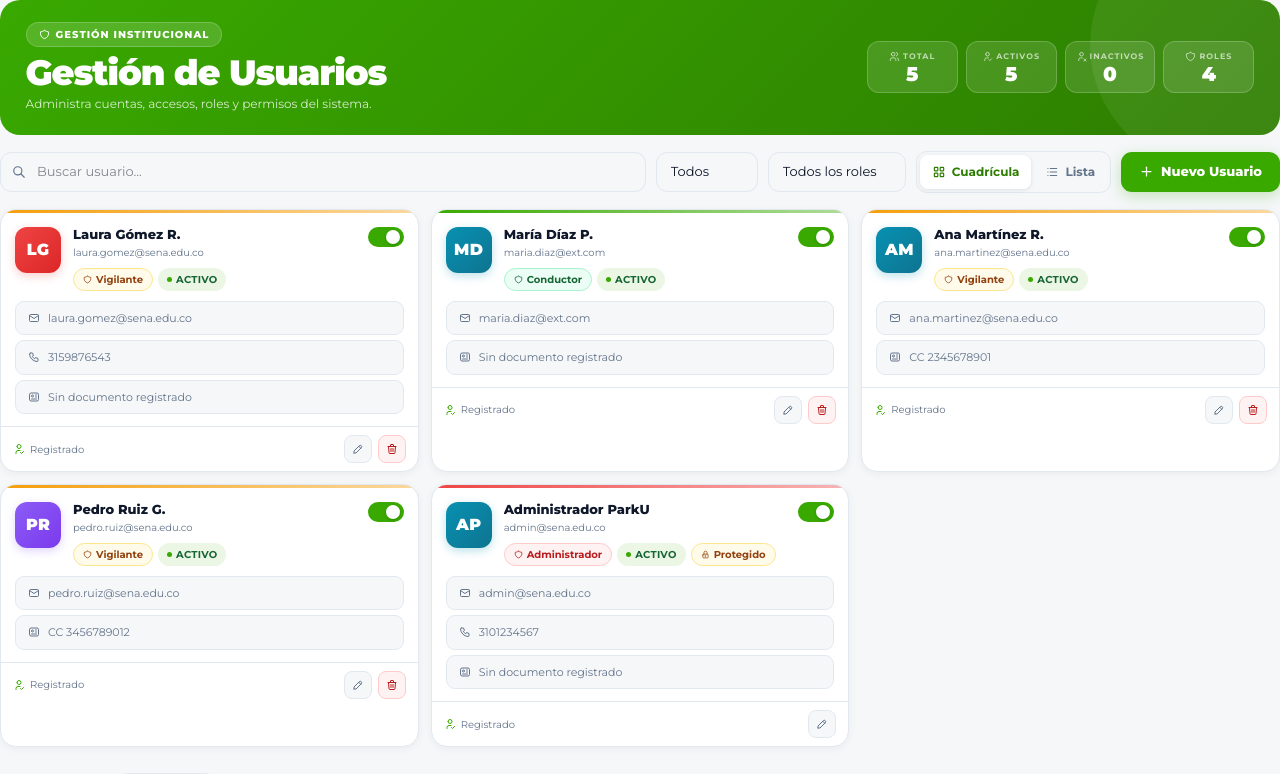
Usuarios › muestra el teléfono de la cuenta en la tarjeta y lo precarga al editar
Check: the text "Laura Gómez R." is shown, box [73,226,180,242]
Check: the text "3159876543" is shown, box [48,350,111,364]
Click the button named "Editar" below "3159876543" at (358, 449), box [344,435,372,463]
(page scrolled)
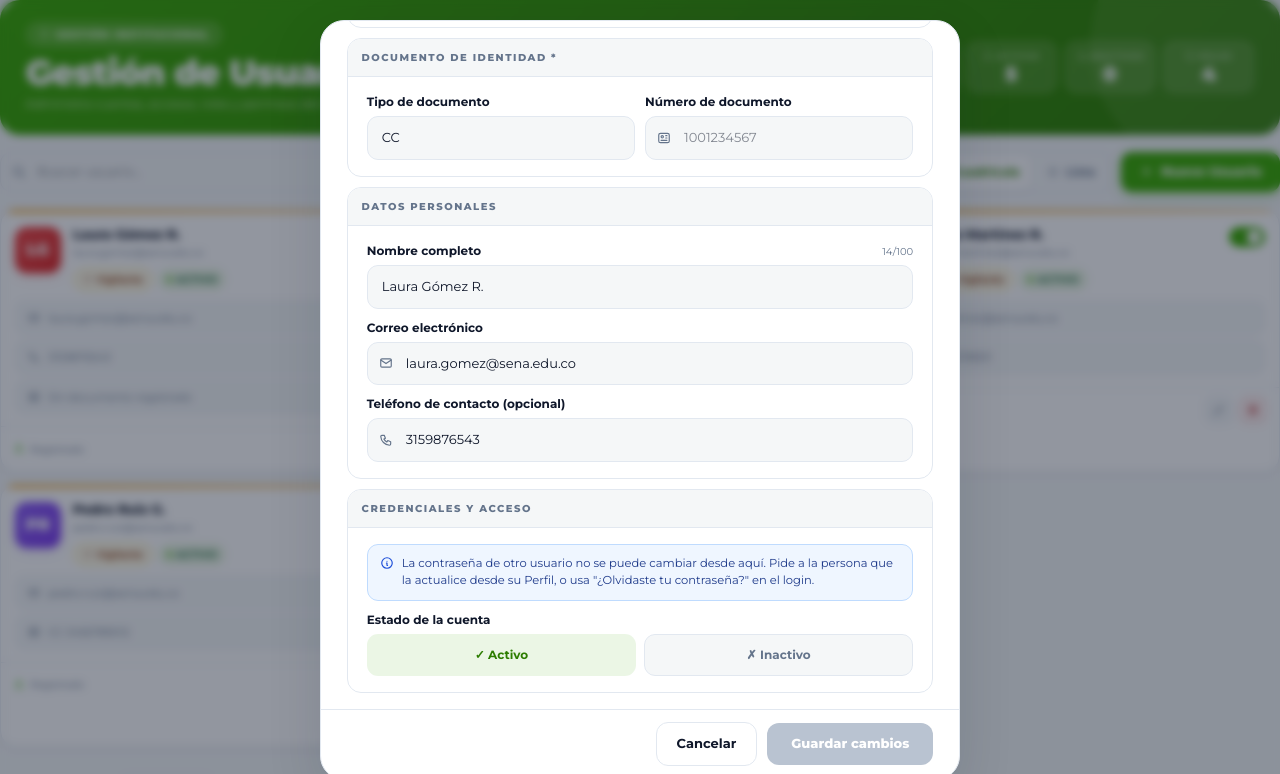
Check: the field showing "3159876543" below "Teléfono de contacto (opcional)" is shown, box [367,418,913,462]
